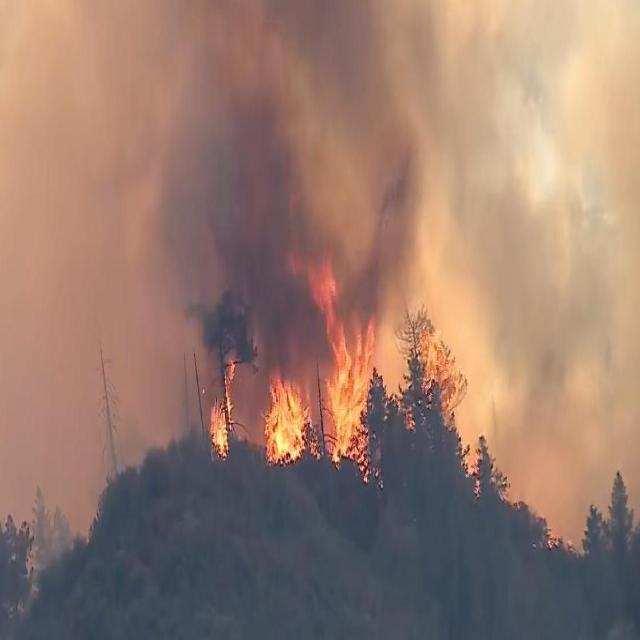Fire: (288, 2, 492, 248), (203, 364, 492, 502), (383, 258, 493, 361), (290, 259, 384, 363)
Smoke: (2, 4, 202, 552), (498, 3, 640, 539), (201, 0, 285, 360)
